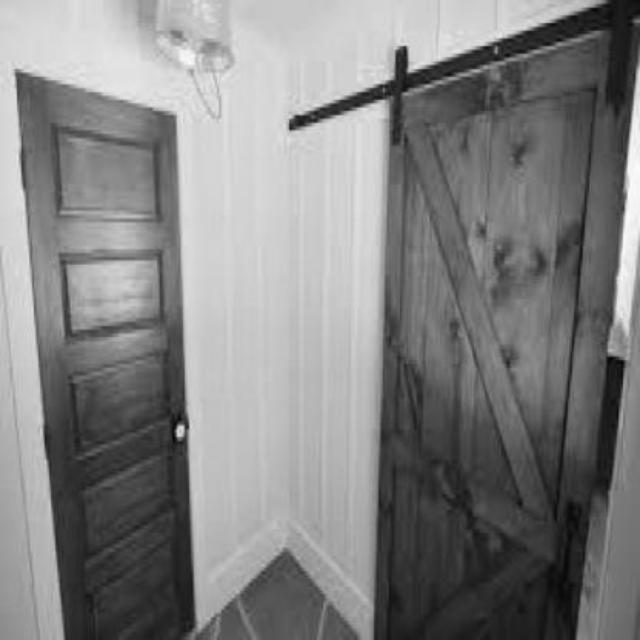Door: (14, 68, 195, 639)
